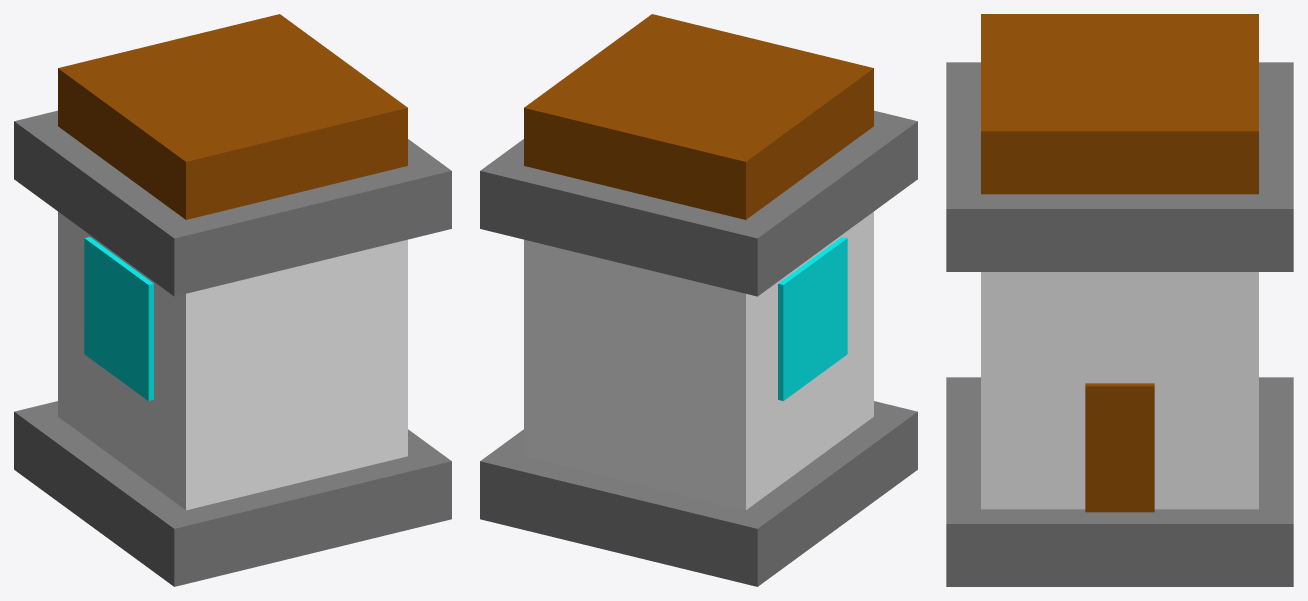
Rendered from house.glb.
The picture shows the model from 3 angles, left to right: view 1: azimuth 30°, elevation 25°; view 2: azimuth 150°, elevation 25°; view 3: azimuth 270°, elevation 25°; orthographic projection. The views are drawn at different scales.
Parts seen in each view (by area): view 1: house01:pCube2, house01:pCube6, house01:pCube1, house01:pCube3, house01:pCube5; view 2: house01:pCube2, house01:pCube6, house01:pCube1, house01:pCube3, house01:pCube5; view 3: house01:pCube2, house01:pCube6, house01:pCube3, house01:pCube1, house01:pCube4.
Part boxes in pixels (left/top/right/bottom): house01:pCube2: left=58, top=211, right=407, bottom=510; house01:pCube6: left=58, top=14, right=407, bottom=219; house01:pCube1: left=14, top=401, right=451, bottom=586; house01:pCube3: left=14, top=110, right=451, bottom=296; house01:pCube5: left=84, top=237, right=153, bottom=400; house01:pCube2: left=524, top=211, right=873, bottom=510; house01:pCube6: left=524, top=14, right=873, bottom=219; house01:pCube1: left=480, top=401, right=917, bottom=586; house01:pCube3: left=480, top=110, right=917, bottom=296; house01:pCube5: left=778, top=237, right=847, bottom=400; house01:pCube2: left=981, top=272, right=1258, bottom=509; house01:pCube6: left=981, top=14, right=1258, bottom=194; house01:pCube3: left=946, top=62, right=1293, bottom=271; house01:pCube1: left=946, top=377, right=1293, bottom=586; house01:pCube4: left=1085, top=383, right=1154, bottom=512.
Size of the model in its own units: 2 by 2.8 by 2.
